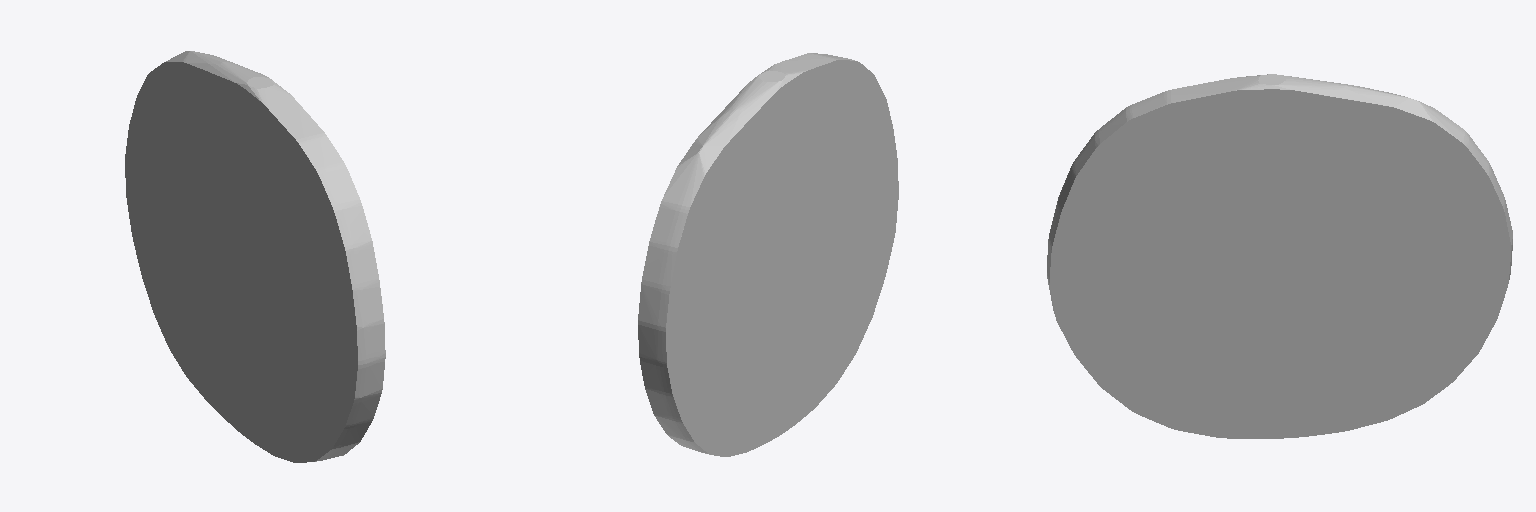
The model's file is Tomato_19_collision_4.obj.
3 views of the same model, side by side, from view 1: azimuth 30°, elevation 25°; view 2: azimuth 150°, elevation 25°; view 3: azimuth 270°, elevation 25° (orthographic).
Size of the model in its own units: 0.0088 by 0.1027 by 0.1232.